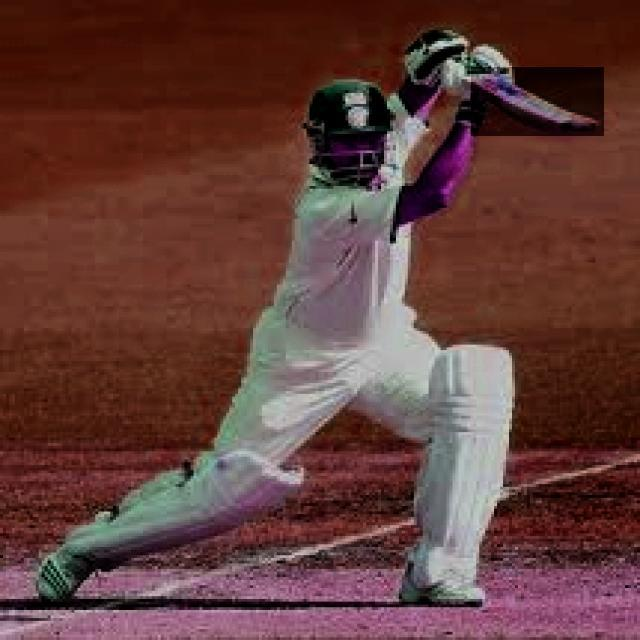bat: (475, 65, 606, 137)
toe: (543, 118, 605, 136)
